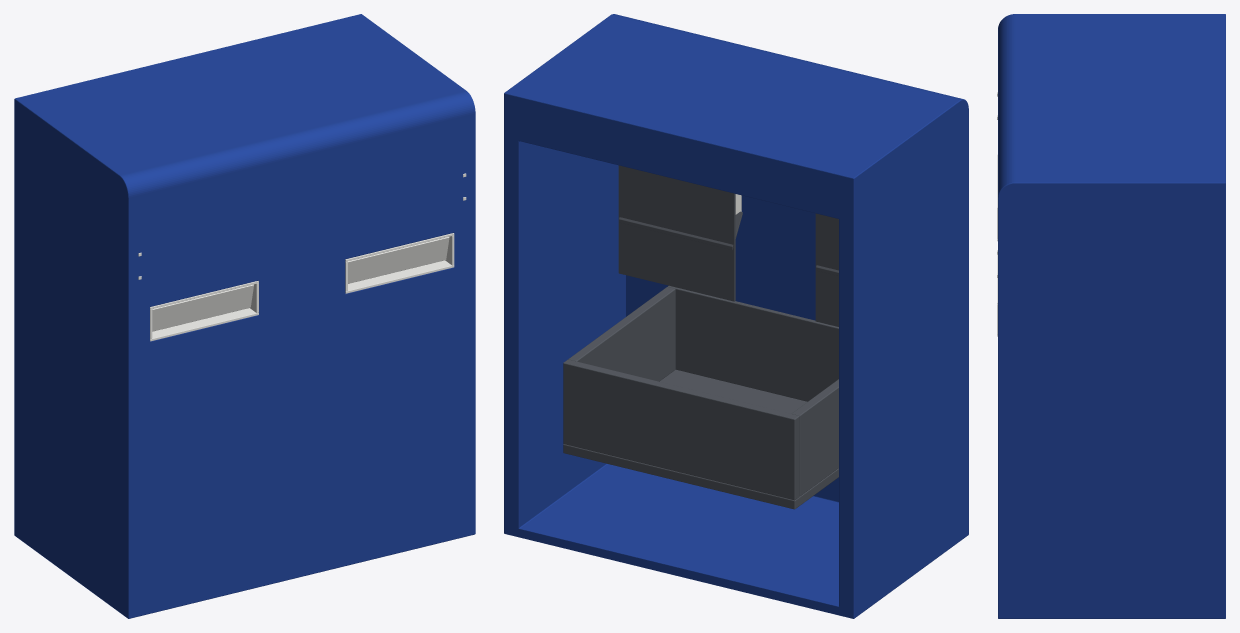
Rendered from interior-return-chute.glb.
The picture shows the model from 3 angles, left to right: view 1: azimuth 30°, elevation 25°; view 2: azimuth 150°, elevation 25°; view 3: azimuth 270°, elevation 25°; orthographic projection.
Parts seen in each view (by area): view 1: ChuteLaminate, ChuteSteel, ChuteFlap, ChuteFlapRight; view 2: ChuteLaminate, ChuteReveal; view 3: ChuteLaminate.
Boxes of the visible parts, box(x1,y1,x2,y2) form: ChuteLaminate: box(14, 14, 475, 618); ChuteSteel: box(138, 173, 466, 341); ChuteFlap: box(152, 284, 253, 331); ChuteFlapRight: box(348, 237, 449, 283); ChuteLaminate: box(504, 14, 968, 618); ChuteReveal: box(563, 165, 838, 509); ChuteLaminate: box(998, 14, 1225, 618).
Size of the model in its own units: 3.2 by 3.85 by 1.83.
